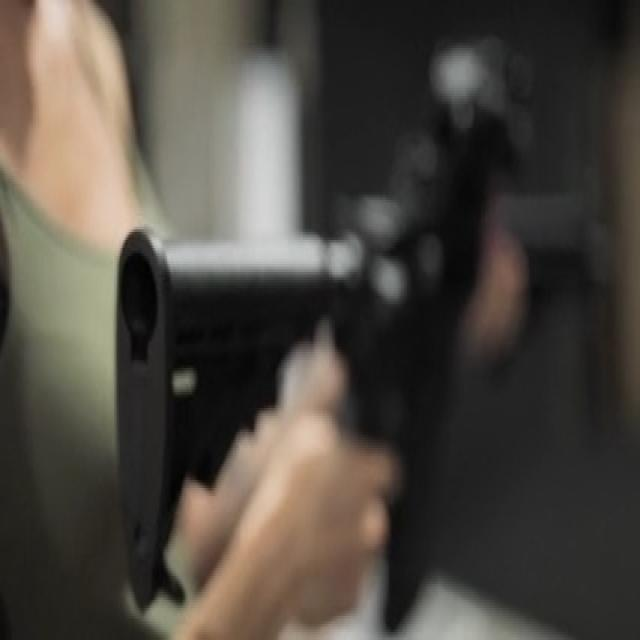Gun_Holder: (76, 0, 620, 640)
